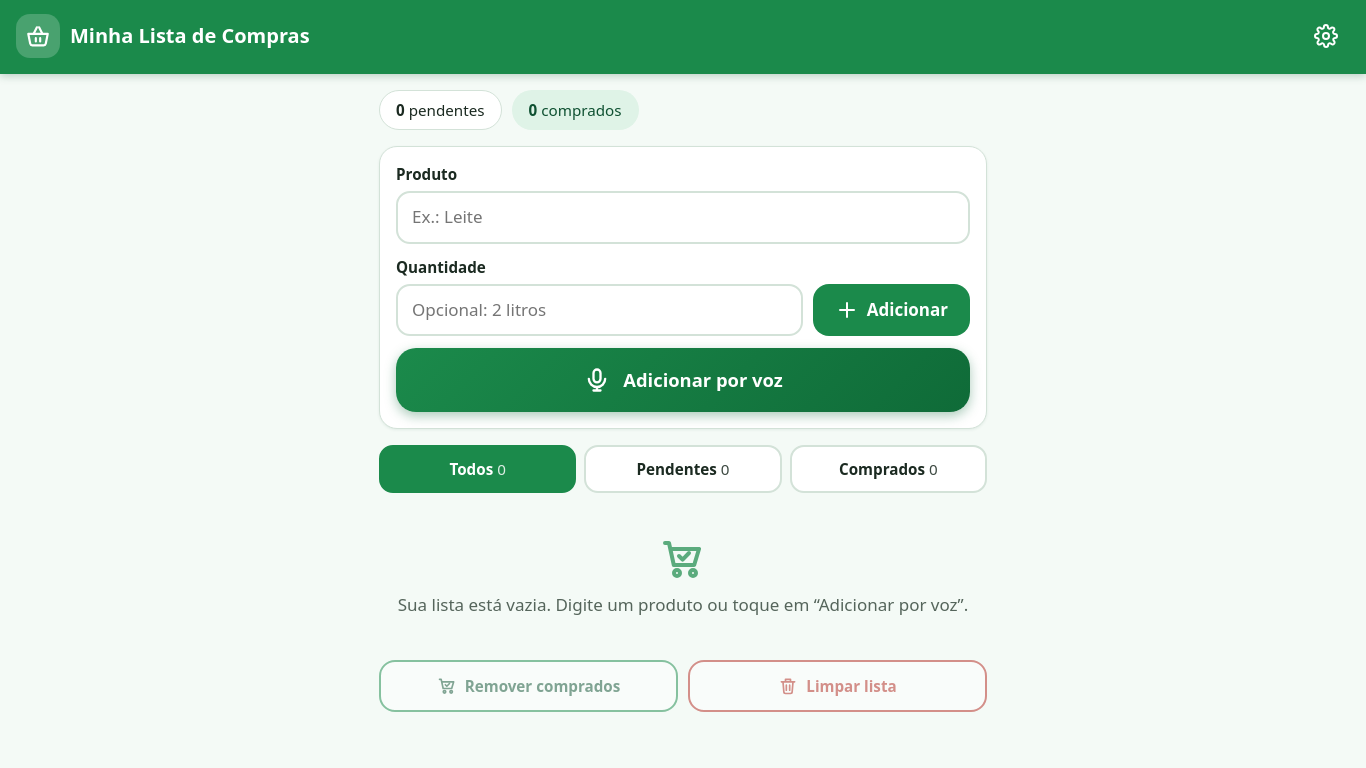
Test: Lista de compras › edita um produto
expect the element named "Filtrar itens" is shown: met, box [379,445,987,493]
Step 1. Type "Leite" into the field labelled "Produto" → (683, 217), box [396,191,970,244]
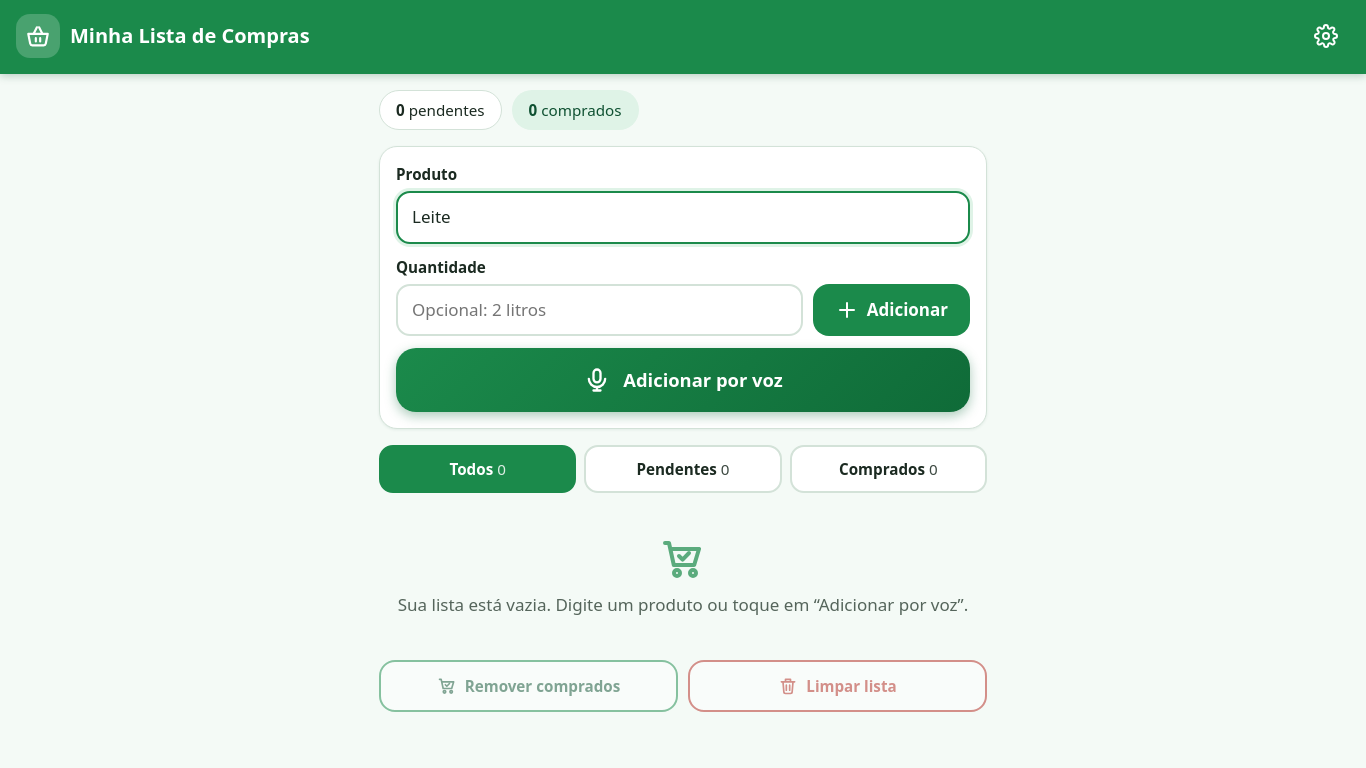
Step 2. Click the button "Adicionar" → (891, 310), box [813,284,970,336]
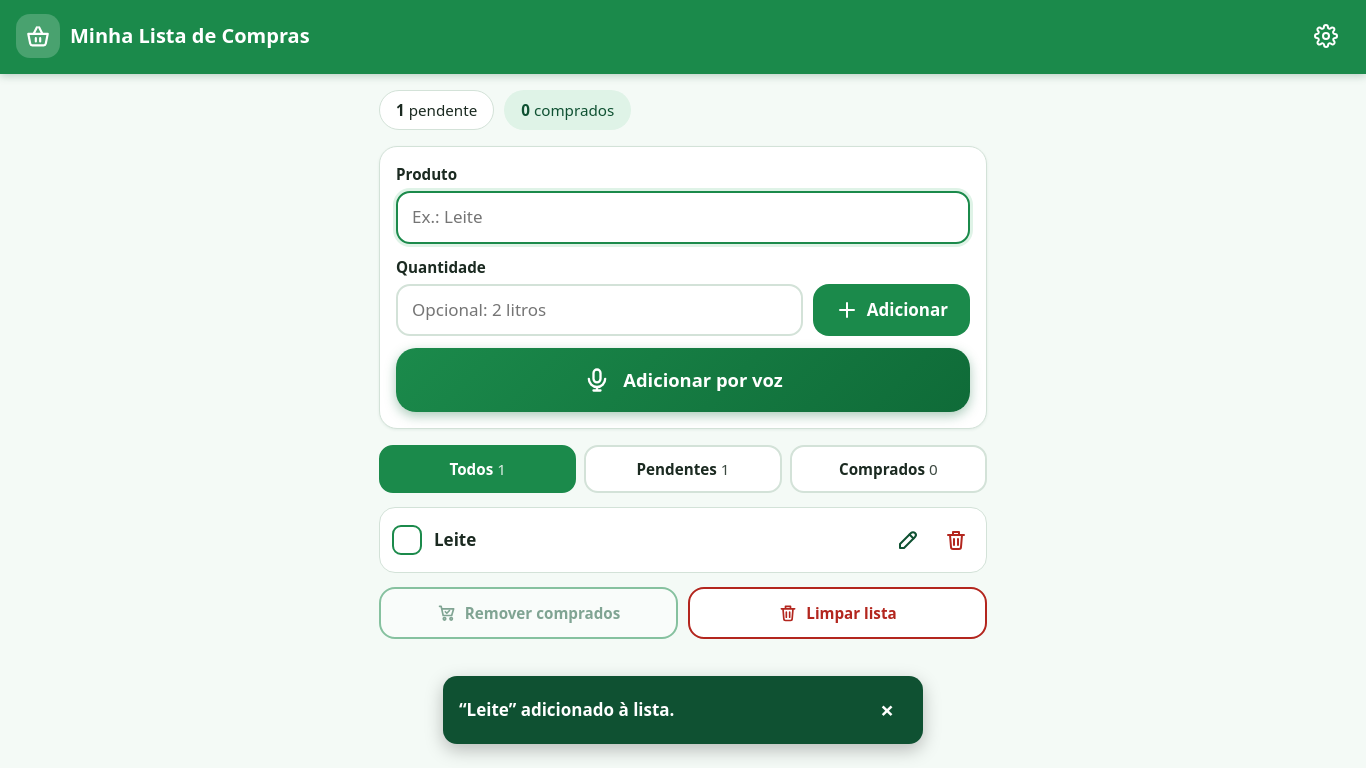
expect the checkbox labelled "Leite" is shown: met, box [384,512,880,568]
Step 3. Click the button named "Editar Leite" → (908, 540), box [884,516,932,564]
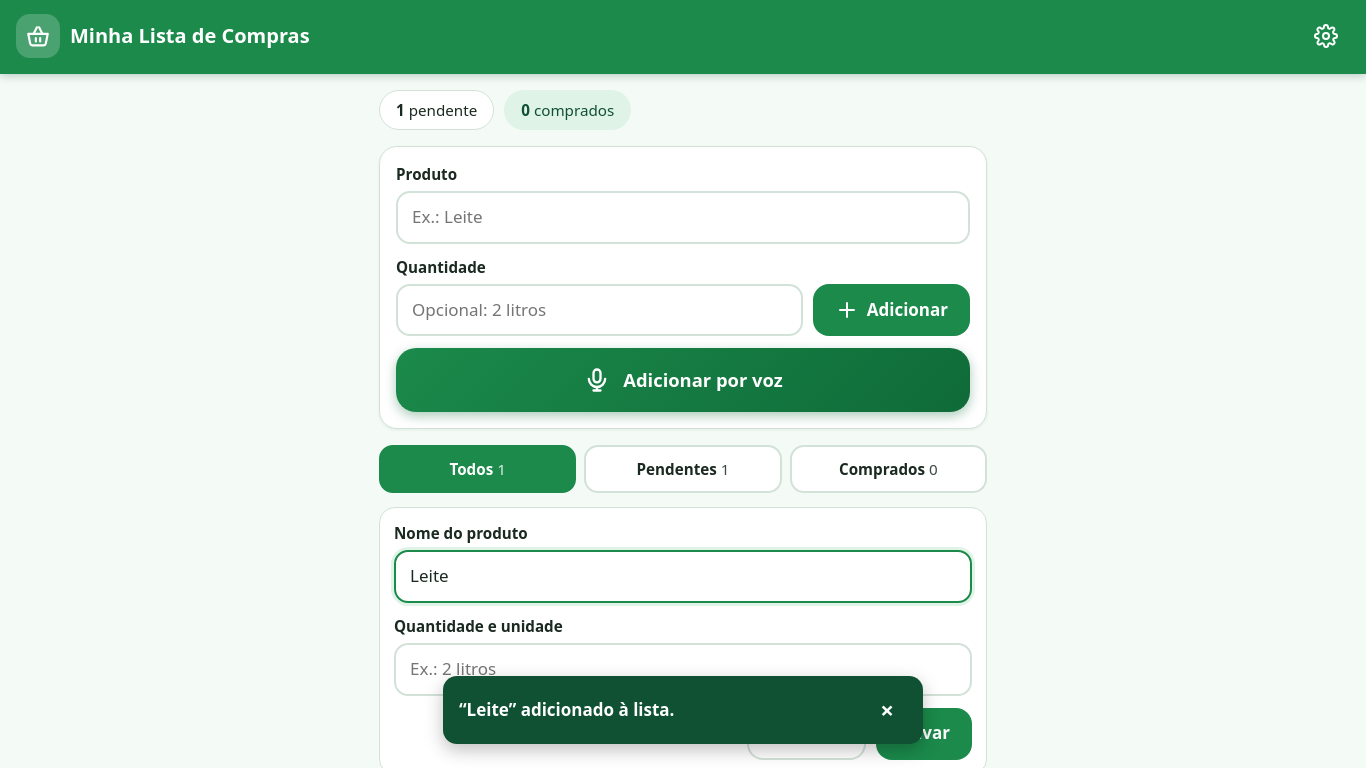
Step 4. Replace the text in the field labelled "Nome do produto" with "Leite integral" → (683, 577), box [394,550,972,603]
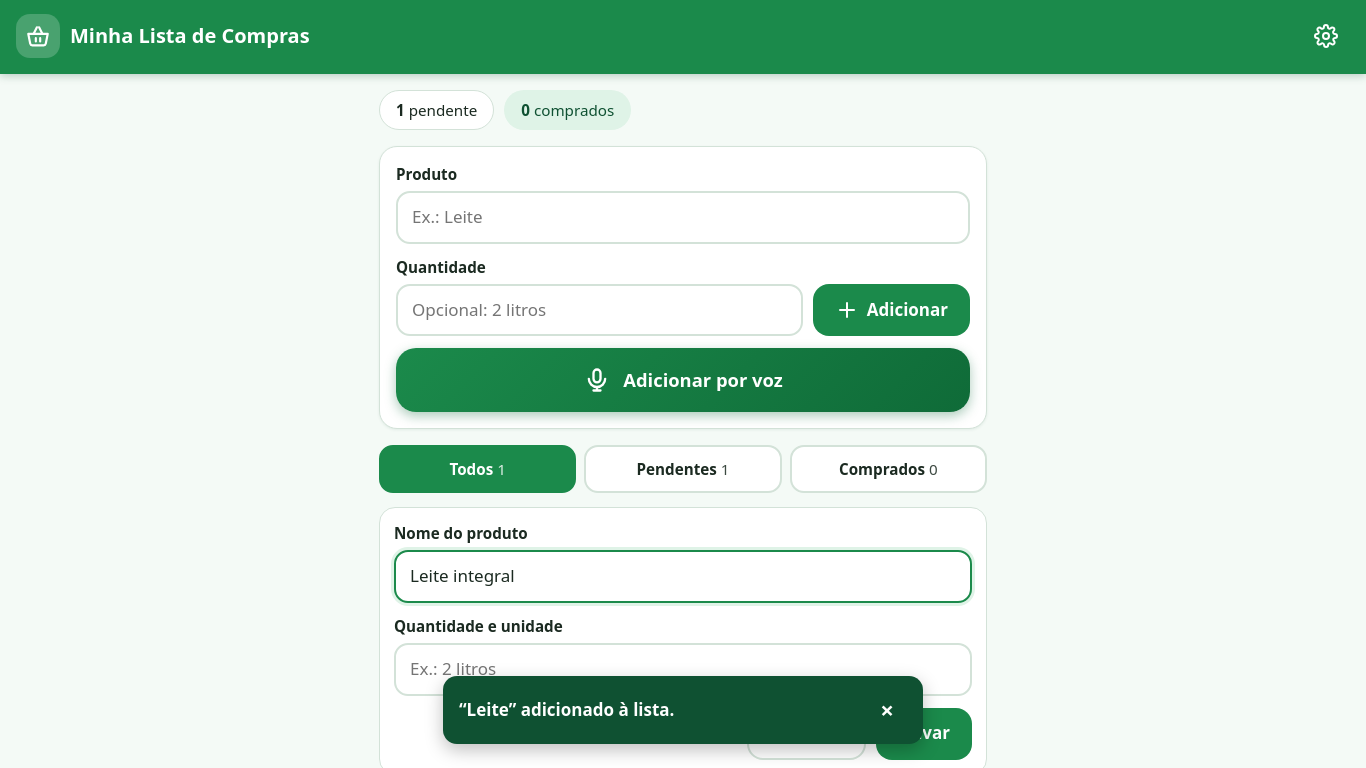
Step 5. Type "3 caixas" into the field labelled "Quantidade e unidade" → (683, 669), box [394,643,972,696]
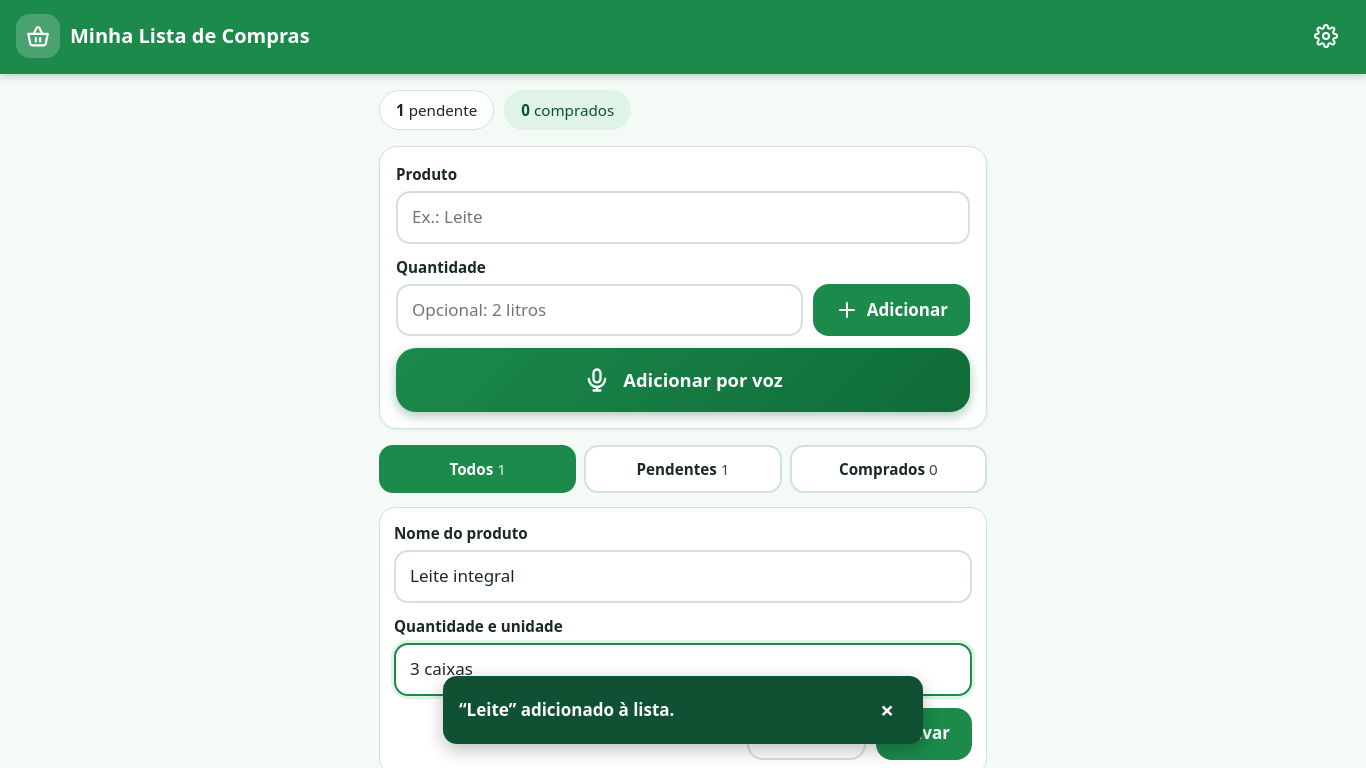
Step 6. Click the button "Salvar" → (924, 734), box [876,708,972,760]
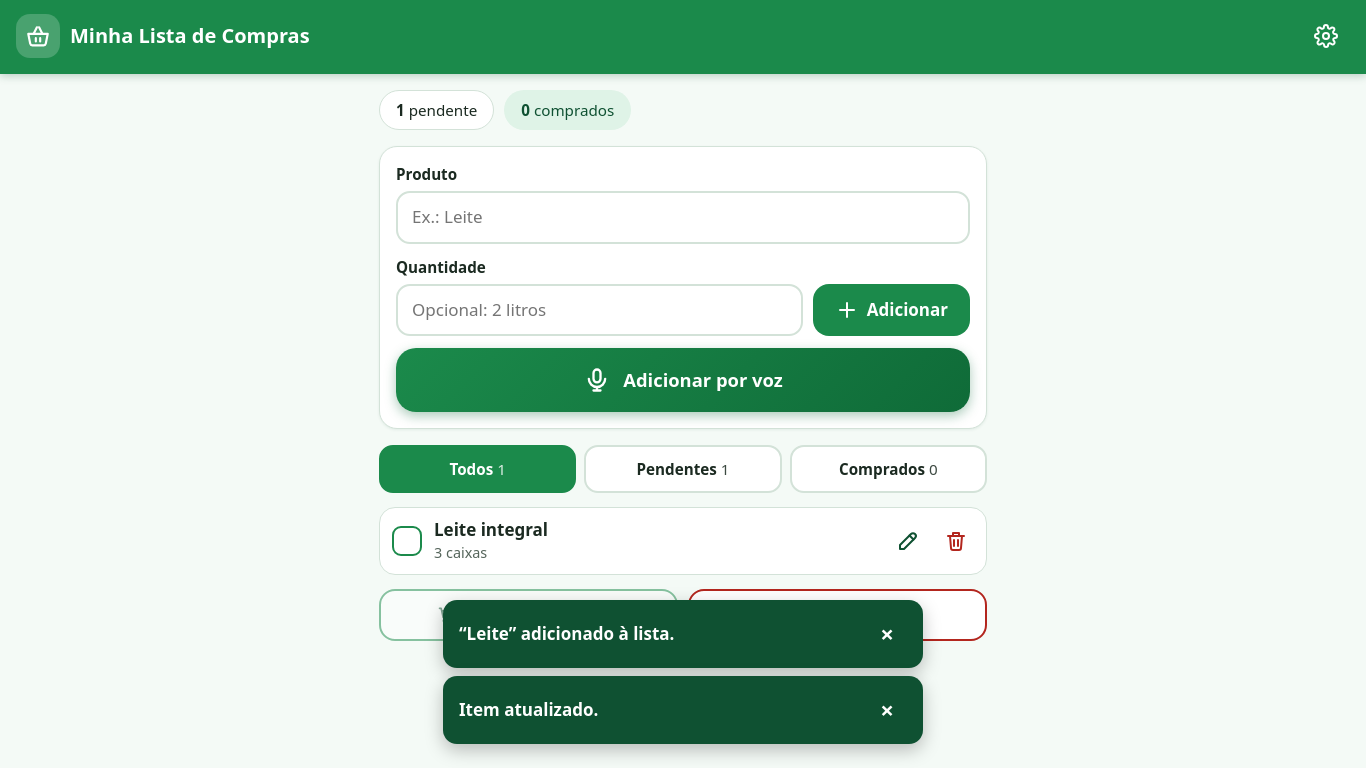
expect the checkbox named "Leite integral, 3 caixas" is shown: met, box [384,512,880,570]
